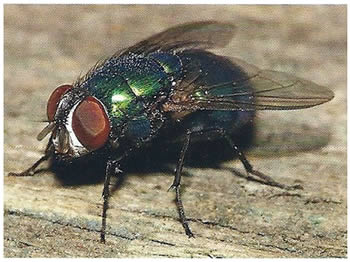green bottles flies: (10, 13, 339, 251)
